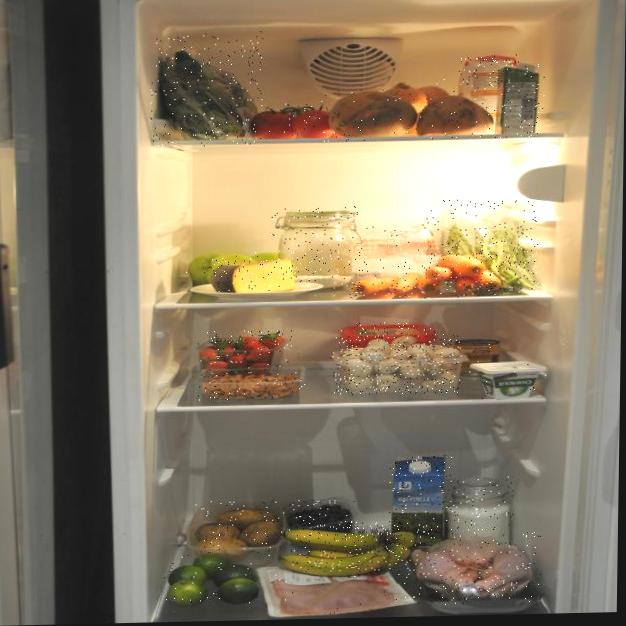apple: (184, 251, 298, 287)
banana: (290, 520, 410, 579)
blueberries: (289, 499, 355, 532)
butter: (339, 321, 436, 356)
carrot: (422, 252, 501, 298), (349, 274, 421, 298)
cheese: (212, 256, 298, 293)
chicken: (404, 530, 542, 606)
corn: (455, 339, 501, 375)
flour: (269, 206, 359, 290), (349, 222, 442, 281)
goat_cheese: (468, 361, 549, 400)
green_beans: (425, 197, 540, 299)
ham: (274, 570, 399, 616)
heavy_cream: (498, 63, 545, 138)
lime: (163, 553, 263, 607)
milk: (389, 455, 453, 557)
mushrooms: (331, 334, 461, 395)
onion: (378, 79, 454, 113)
potato: (193, 500, 285, 559)
shrimp: (197, 371, 305, 400)
spinach: (150, 31, 263, 147)
strawberries: (198, 329, 293, 373)
sugar: (458, 55, 521, 138), (448, 476, 514, 549)
sweet_potato: (321, 88, 501, 142)
tomato: (246, 102, 347, 139)
